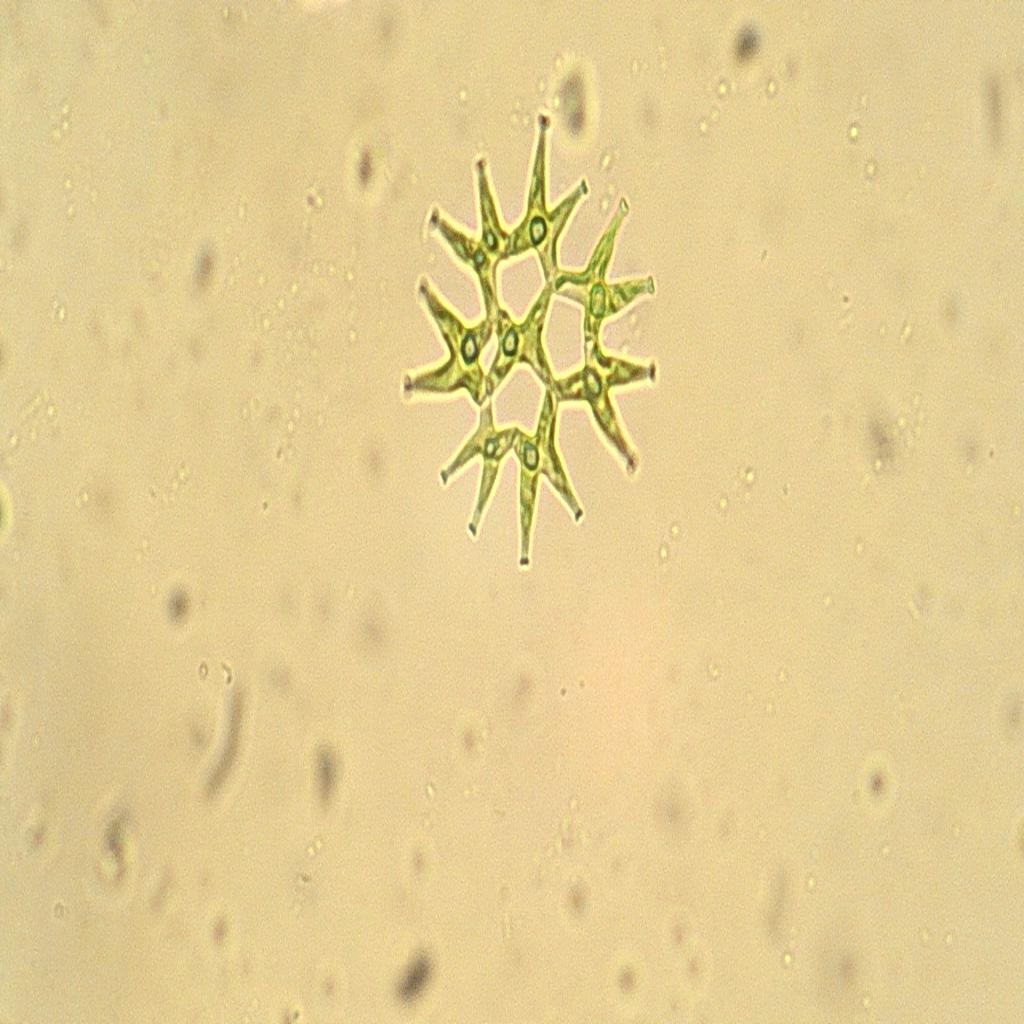Pediastrum_CTH: (387, 102, 664, 590)
